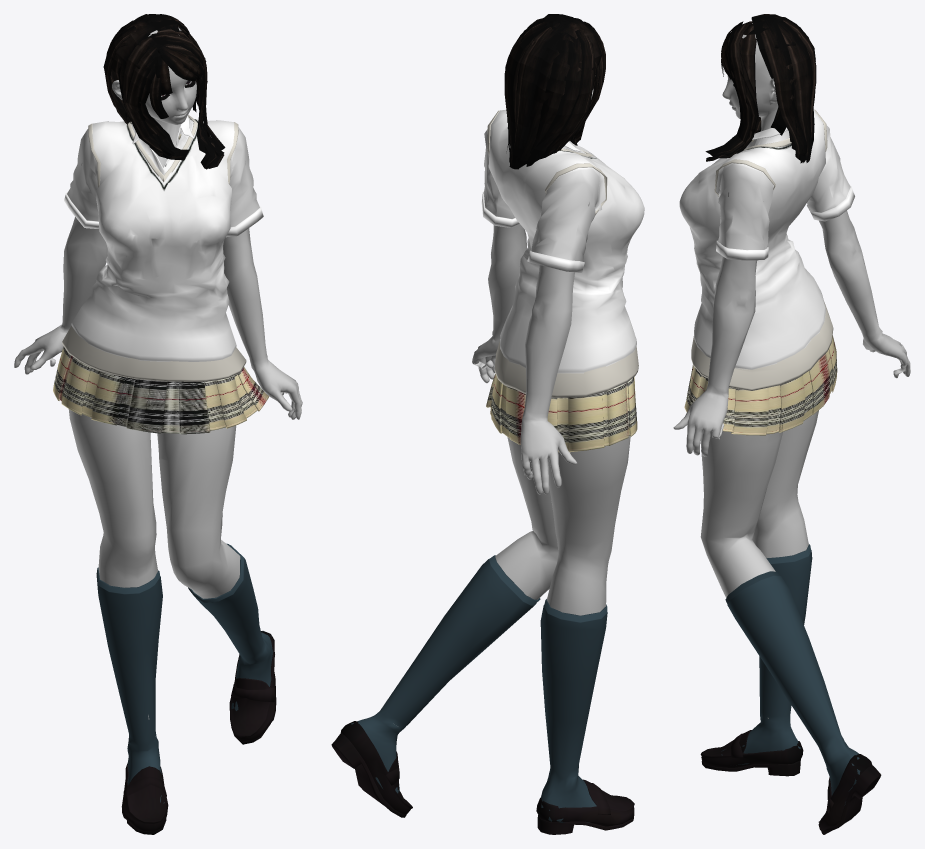
File: girl.fbx
The picture shows the model from 3 angles, left to right: view 1: azimuth 30°, elevation 25°; view 2: azimuth 150°, elevation 25°; view 3: azimuth 270°, elevation 25°; orthographic projection. The views are drawn at different scales.
Visible parts, largest first — view 1: polySurface1, polySurface82, polySurface94, polySurface104, polySurface87, polySurface103, polySurface86, polySurface99, polySurface101, polySurface105, polySurface31, polySurface30 (+4 smaller); view 2: polySurface1, polySurface82, polySurface103, polySurface104, polySurface87, polySurface94, polySurface86, polySurface101, polySurface47, polySurface99, polySurface43, polySurface44 (+6 smaller); view 3: polySurface1, polySurface82, polySurface103, polySurface87, polySurface94, polySurface104, polySurface86, polySurface58, polySurface50, polySurface101, polySurface23, polySurface99 (+7 smaller).
Part boxes in pixels (x1=…): polySurface1: x1=14, y1=117, x2=302, y2=736; polySurface82: x1=71, y1=118, x2=236, y2=361; polySurface94: x1=53, y1=346, x2=269, y2=434; polySurface104: x1=96, y1=567, x2=164, y2=803; polySurface87: x1=64, y1=115, x2=263, y2=256; polySurface103: x1=188, y1=543, x2=273, y2=710; polySurface86: x1=62, y1=326, x2=246, y2=381; polySurface99: x1=229, y1=631, x2=276, y2=742; polySurface101: x1=121, y1=763, x2=168, y2=831; polySurface105: x1=112, y1=27, x2=196, y2=124; polySurface31: x1=123, y1=38, x2=177, y2=157; polySurface30: x1=126, y1=44, x2=189, y2=160; polySurface1: x1=472, y1=202, x2=630, y2=615; polySurface82: x1=488, y1=110, x2=644, y2=373; polySurface103: x1=351, y1=555, x2=540, y2=793; polySurface104: x1=540, y1=599, x2=607, y2=822; polySurface87: x1=481, y1=129, x2=605, y2=272; polySurface94: x1=486, y1=373, x2=637, y2=452; polySurface86: x1=494, y1=341, x2=638, y2=397; polySurface101: x1=536, y1=779, x2=634, y2=826; polySurface47: x1=514, y1=23, x2=564, y2=162; polySurface99: x1=340, y1=721, x2=412, y2=814; polySurface43: x1=526, y1=33, x2=582, y2=166; polySurface44: x1=541, y1=29, x2=594, y2=158; polySurface1: x1=673, y1=109, x2=910, y2=718; polySurface82: x1=679, y1=109, x2=825, y2=369; polySurface103: x1=725, y1=571, x2=860, y2=805; polySurface87: x1=716, y1=125, x2=854, y2=260; polySurface94: x1=684, y1=335, x2=837, y2=435; polySurface104: x1=721, y1=544, x2=812, y2=765; polySurface86: x1=691, y1=301, x2=833, y2=390; polySurface58: x1=760, y1=15, x2=807, y2=160; polySurface50: x1=760, y1=16, x2=812, y2=162; polySurface101: x1=700, y1=730, x2=803, y2=767; polySurface23: x1=710, y1=22, x2=752, y2=156; polySurface99: x1=818, y1=754, x2=872, y2=831.
Bounding box in the file's own units: 7.39 × 22.14 × 6.24.
